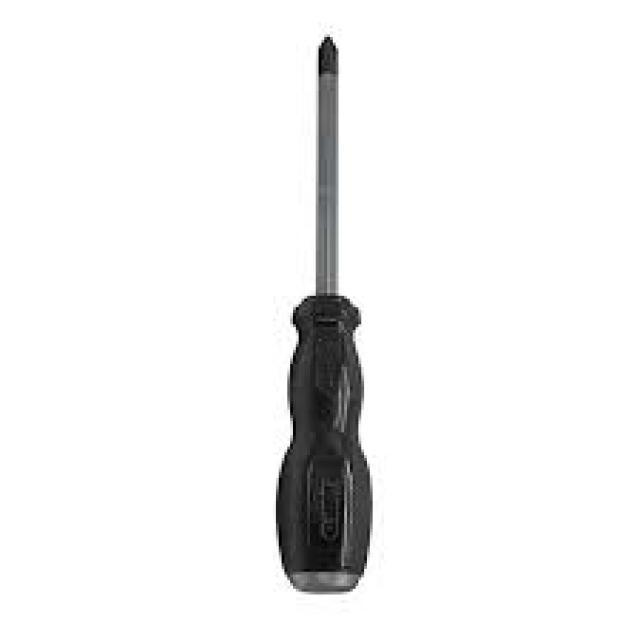screwdriver: (272, 20, 377, 598)
